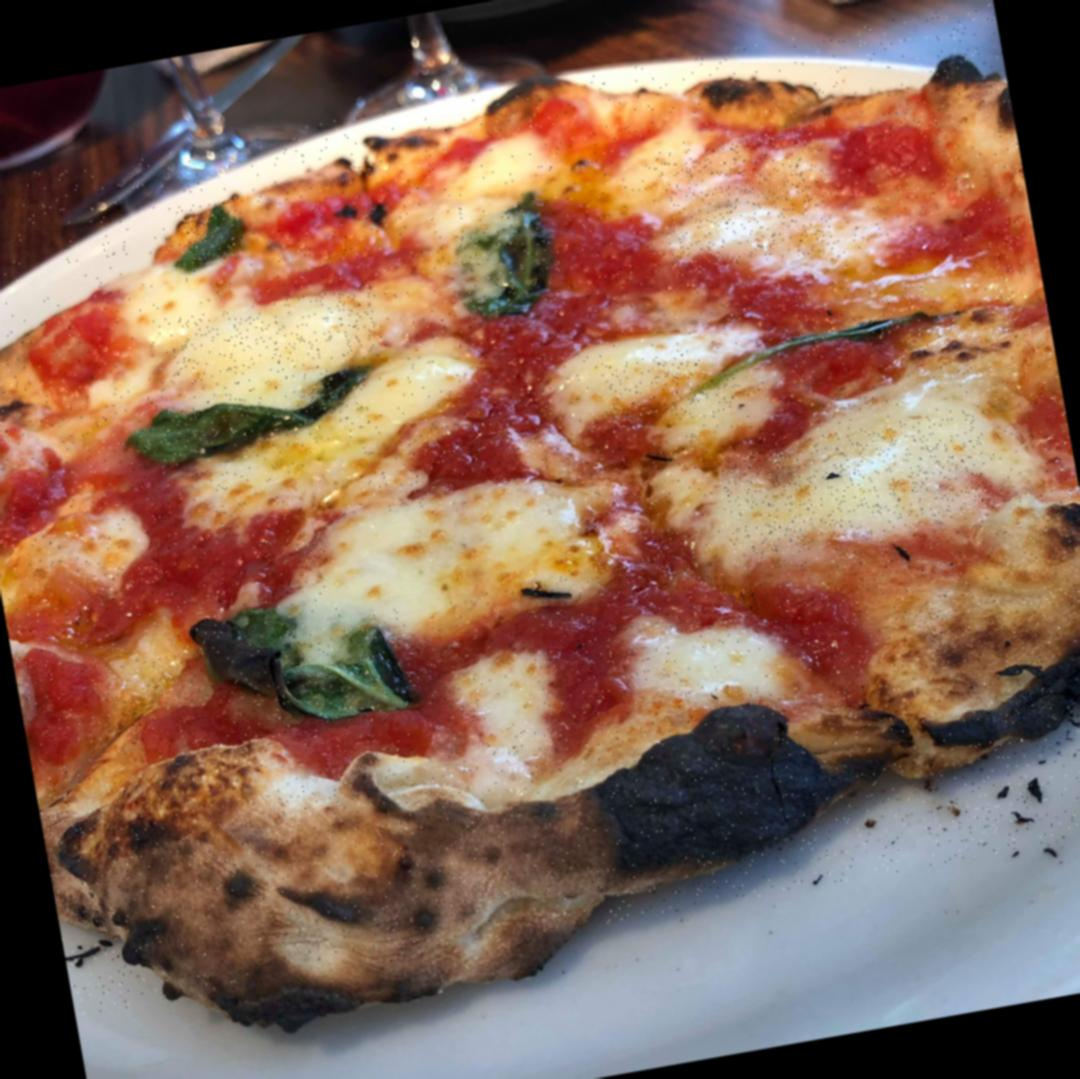Basil: (197, 575, 420, 745), (130, 352, 374, 475), (700, 296, 942, 385), (452, 198, 562, 322), (182, 199, 243, 267)
Cheese: (716, 408, 997, 560), (327, 487, 562, 618), (653, 124, 837, 278), (168, 285, 379, 385), (598, 338, 744, 432)
Pizza: (0, 1, 1080, 1016)
